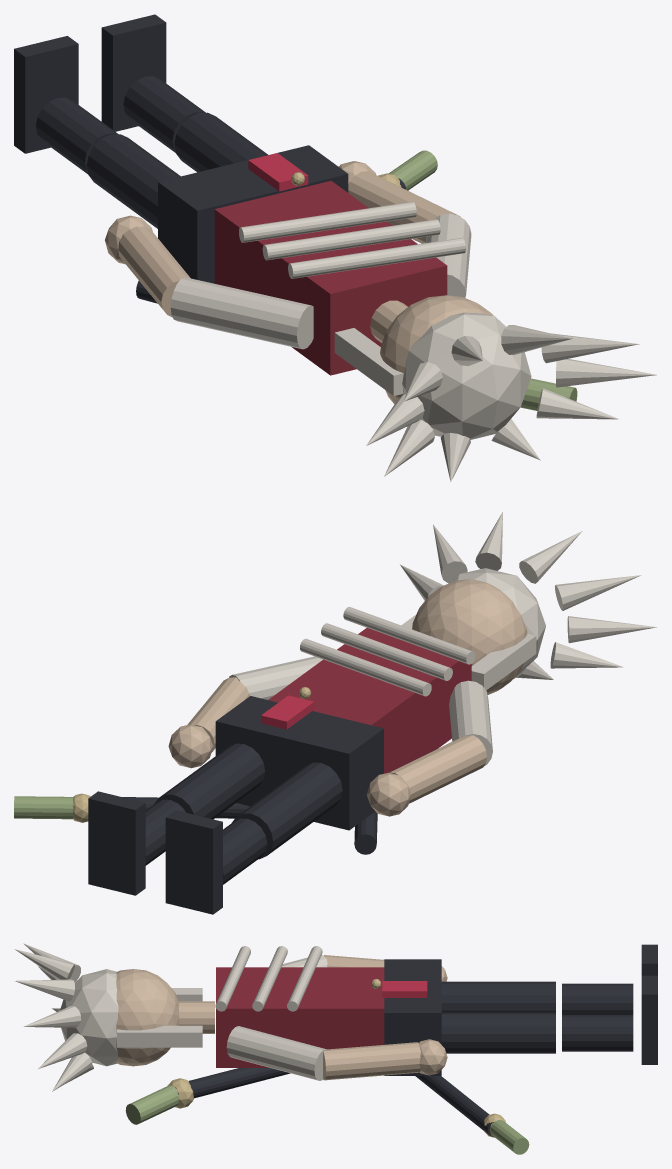
Rendered from 03_senka_assassin.glb.
The picture shows the model from 3 angles, top to bottom: view 1: azimuth 30°, elevation 25°; view 2: azimuth 150°, elevation 25°; view 3: azimuth 270°, elevation 25°; orthographic projection. The views are drawn at different scales.
Visible parts, largest first — view 1: senka_torso, senka_hair_cap, senka_hips, senka_upper_arm_-1, senka_shoe_1, senka_shoe_-1, senka_upper_leg_-1, senka_upper_leg_1, senka_lower_leg_-1, senka_lower_leg_1, senka_head, senka_forearm_-1 (+21 smaller); view 2: senka_torso, senka_hips, senka_head, senka_shoe_1, senka_shoe_-1, senka_upper_leg_-1, senka_upper_leg_1, senka_forearm_-1, senka_upper_arm_-1, senka_hair_cap, senka_lower_leg_-1, senka_wrap_2 (+17 smaller); view 3: senka_torso, senka_upper_leg_1, senka_hips, senka_head, senka_hair_cap, senka_upper_leg_-1, senka_upper_arm_1, senka_forearm_1, senka_lower_leg_1, senka_lower_leg_-1, senka_bob_right, senka_back_sheath (+20 smaller).
Part boxes in pixels (bbox=[...]): senka_torso: bbox=[214, 180, 447, 375]; senka_hair_cap: bbox=[402, 312, 531, 439]; senka_hips: bbox=[158, 145, 348, 283]; senka_upper_arm_-1: bbox=[170, 277, 313, 349]; senka_shoe_1: bbox=[101, 14, 166, 131]; senka_shoe_-1: bbox=[14, 36, 78, 153]; senka_upper_leg_-1: bbox=[86, 134, 180, 228]; senka_upper_leg_1: bbox=[174, 112, 267, 172]; senka_lower_leg_-1: bbox=[35, 97, 118, 174]; senka_lower_leg_1: bbox=[123, 76, 205, 152]; senka_head: bbox=[380, 295, 493, 404]; senka_forearm_-1: bbox=[118, 226, 190, 317]; senka_torso: bbox=[268, 628, 471, 773]; senka_hips: bbox=[215, 696, 383, 830]; senka_head: bbox=[412, 579, 527, 694]; senka_shoe_1: bbox=[88, 791, 145, 895]; senka_shoe_-1: bbox=[165, 810, 222, 914]; senka_upper_leg_-1: bbox=[232, 762, 342, 859]; senka_upper_leg_1: bbox=[154, 743, 265, 819]; senka_forearm_-1: bbox=[389, 735, 487, 803]; senka_upper_arm_-1: bbox=[449, 680, 492, 766]; senka_hair_cap: bbox=[450, 568, 545, 679]; senka_lower_leg_-1: bbox=[223, 818, 267, 884]; senka_wrap_2: bbox=[343, 607, 475, 664]; senka_torso: bbox=[216, 967, 384, 1067]; senka_upper_leg_1: bbox=[441, 1012, 555, 1053]; senka_hips: bbox=[384, 959, 441, 1075]; senka_head: bbox=[116, 969, 179, 1066]; senka_hair_cap: bbox=[60, 969, 118, 1066]; senka_upper_leg_-1: bbox=[441, 981, 555, 1012]; senka_upper_arm_1: bbox=[226, 1026, 326, 1080]; senka_forearm_1: bbox=[323, 1042, 420, 1080]; senka_lower_leg_1: bbox=[562, 1015, 633, 1051]; senka_lower_leg_-1: bbox=[562, 983, 633, 1014]; senka_bob_right: bbox=[117, 1025, 202, 1047]; senka_back_sheath: bbox=[175, 1068, 290, 1098].
Bounding box in the file's own units: 1.67 × 0.6203 × 3.15.
